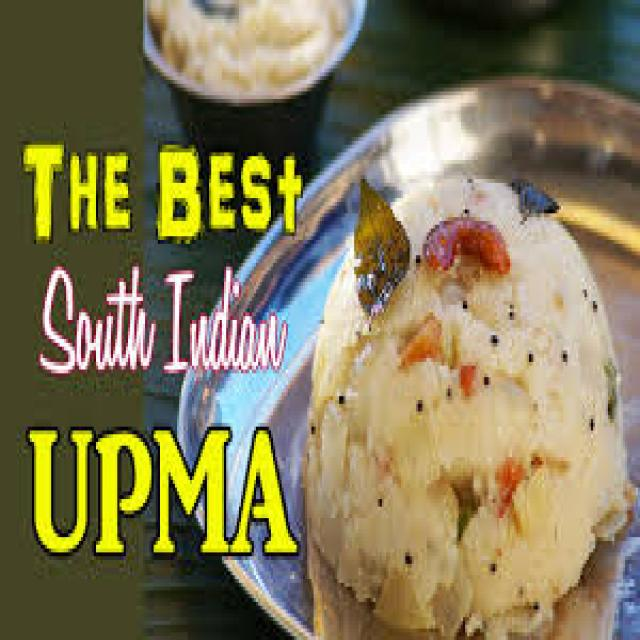UPMA: (299, 164, 631, 636)
